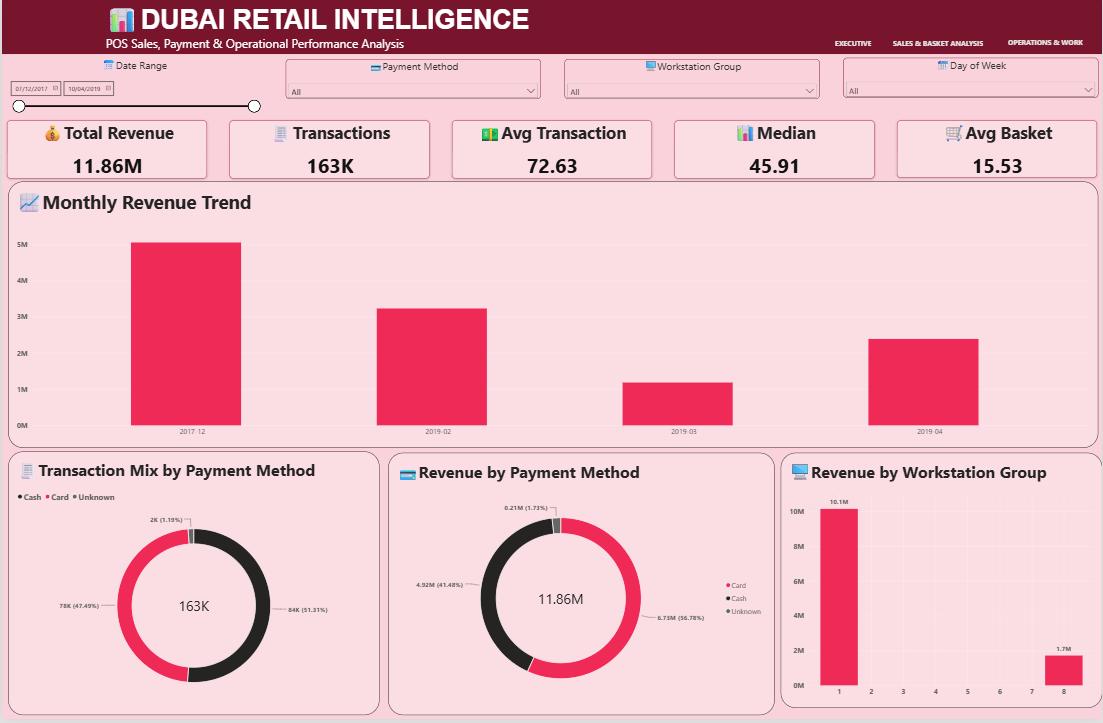

What the dashboard file says about the page in this screenshot:
{"tool":"powerbi","page":{"name":"Page 1","canvas":[2200,1440],"ordinal":0},"visuals":[{"type":"shape","box":[0,0,2600,110.1],"z":0},{"type":"cardVisual","title":"💰Total Revenue","fields":{"Data":["analytics fact_transactions.Total Revenue"]},"box":[9.2,243.2,400,116.7],"z":1000},{"type":"cardVisual","title":"🧾Transactions","fields":{"Data":["analytics fact_transactions.Total Transactions"]},"box":[454.7,243.2,400,116.9],"z":2000},{"type":"cardVisual","title":"💵Avg Transaction","fields":{"Data":["analytics fact_transactions.Average Transaction Value"]},"box":[900.2,243.2,400,116.9],"z":3000},{"type":"textbox","box":[207.1,7.4,1200.8,120.8],"z":4000},{"type":"donutChart","title":"💳Revenue by Payment Method","fields":{"Category":["analytics fact_transactions.payment_method"],"Y":["analytics fact_transactions.Total Revenue"]},"box":[772.5,907.5,772.5,525],"z":5000},{"type":"cardVisual","title":"📊Median","fields":{"Data":["analytics fact_transactions.Median Transaction Value"]},"box":[1345.7,243.2,400,116.9],"z":6000},{"type":"cardVisual","title":"🛒Avg Basket","fields":{"Data":["analytics fact_transactions.Average Basket Size"]},"box":[1791.2,243.2,400,115.4],"z":7000},{"type":"donutChart","title":"🧾Transaction Mix by Payment Method","fields":{"Category":["analytics fact_transactions.payment_method"],"Y":["analytics fact_transactions.Total Transactions"]},"box":[12.5,905,742.5,527.5],"z":8000},{"type":"clusteredColumnChart","title":"🖥️Revenue by Workstation Group","fields":{"Category":["analytics fact_transactions.workstation_group_id"],"Y":["analytics fact_transactions.Total Revenue"]},"box":[1556.7,906.7,643.3,510],"z":9000},{"type":"slicer","title":"📅Date Range","fields":{"Values":["DateTable.Date"]},"box":[10,118,510,124],"z":10000},{"type":"slicer","title":"💳Payment Method","fields":{"Values":["analytics v_payment_performance.payment_method"]},"box":[567.5,120,510,80],"z":11000},{"type":"slicer","title":"🖥️Workstation Group","fields":{"Values":["analytics v_workstation_performance.workstation_group_id"]},"box":[1125,120,510,80],"z":12000},{"type":"clusteredColumnChart","title":"📈Monthly Revenue Trend","fields":{"Category":["DateTable.Year Month"],"Y":["analytics fact_transactions.Total Revenue"]},"box":[12.5,365,2180,532.5],"z":13000},{"type":"slicer","title":"📆Day of Week","fields":{"Values":["analytics v_day_of_week_performance.day_of_week"]},"box":[1682.5,117.5,510,80],"z":16000},{"type":"actionButton","title":"Analyze","box":[1646.2,65,110,45.5],"z":19000},{"type":"actionButton","title":"Analyze","box":[1762.5,65,219.1,45.5],"z":20000},{"type":"actionButton","title":"Analyze","box":[1981.2,65,208.8,45],"z":21000}]}

Visuals, with their boxes in screenshot pixels (x1, y1, x2, y2), scaled from the page's 2200x1440 canvas onto the 1103x723 screenshot:
shape: bbox=(0, 0, 1102, 55)
"💰Total Revenue" cardVisual: bbox=(5, 122, 205, 181)
"🧾Transactions" cardVisual: bbox=(228, 122, 429, 181)
"💵Avg Transaction" cardVisual: bbox=(451, 122, 652, 181)
textbox: bbox=(104, 4, 706, 64)
"💳Revenue by Payment Method" donutChart: bbox=(387, 456, 775, 719)
"📊Median" cardVisual: bbox=(675, 122, 875, 181)
"🛒Avg Basket" cardVisual: bbox=(898, 122, 1099, 180)
"🧾Transaction Mix by Payment Method" donutChart: bbox=(6, 454, 379, 719)
"🖥️Revenue by Workstation Group" clusteredColumnChart: bbox=(780, 455, 1102, 711)
"📅Date Range" slicer: bbox=(5, 59, 261, 122)
"💳Payment Method" slicer: bbox=(285, 60, 540, 100)
"🖥️Workstation Group" slicer: bbox=(564, 60, 820, 100)
"📈Monthly Revenue Trend" clusteredColumnChart: bbox=(6, 183, 1099, 451)
"📆Day of Week" slicer: bbox=(844, 59, 1099, 99)
"Analyze" actionButton: bbox=(825, 33, 880, 55)
"Analyze" actionButton: bbox=(884, 33, 994, 55)
"Analyze" actionButton: bbox=(993, 33, 1098, 55)
